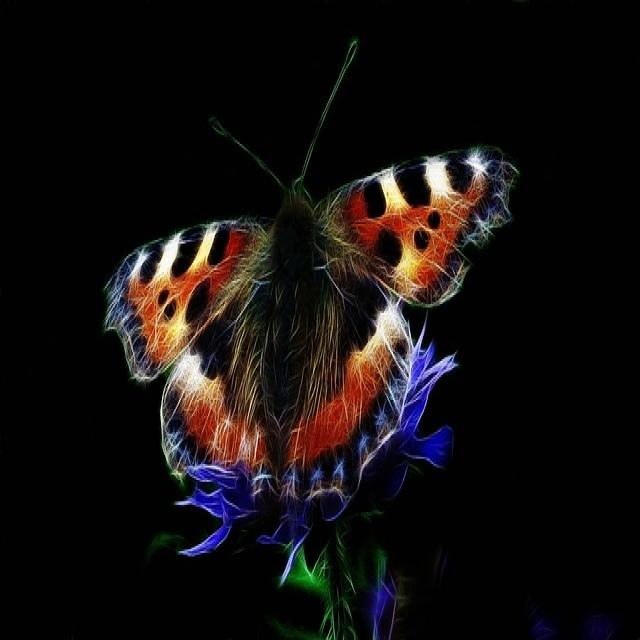butterfly: (101, 34, 519, 583)
